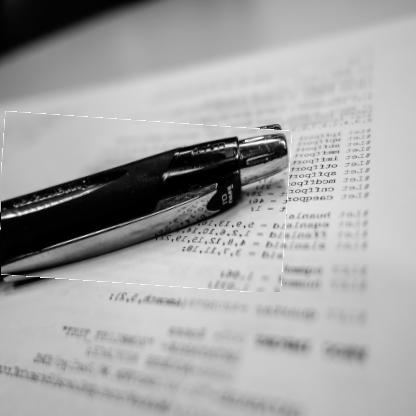Pen: (1, 116, 290, 289)
